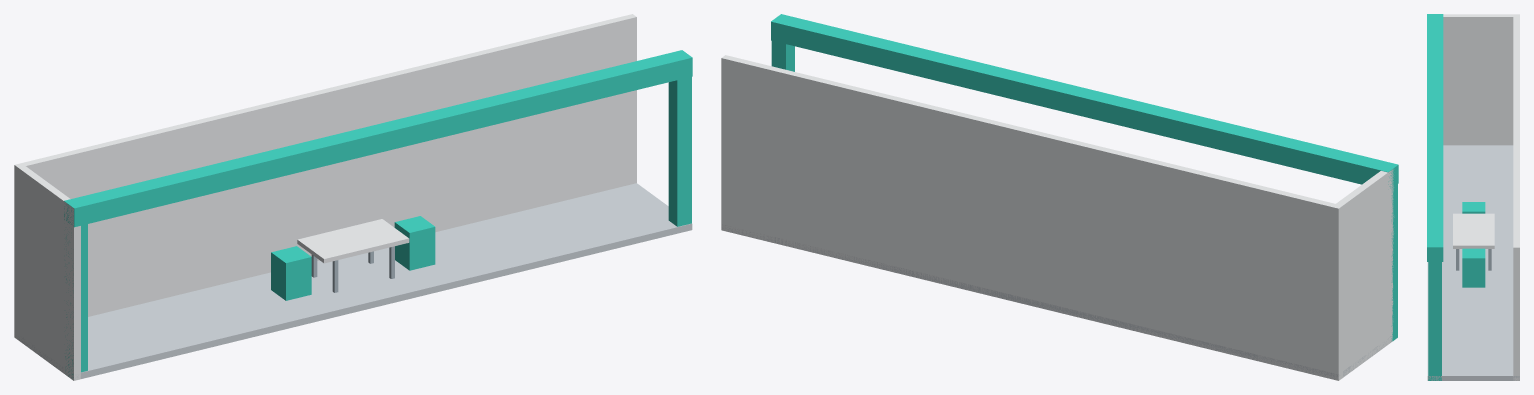
3 views of the same model, side by side, from view 1: azimuth 30°, elevation 25°; view 2: azimuth 150°, elevation 25°; view 3: azimuth 270°, elevation 25° (orthographic). The views are drawn at different scales.
Visible parts, largest first — view 1: Exhibition Booth Concept; view 2: Exhibition Booth Concept; view 3: Exhibition Booth Concept.
Boxes of the visible parts, left/top/right/bottom form: Exhibition Booth Concept: left=14, top=14, right=692, bottom=380; Exhibition Booth Concept: left=721, top=14, right=1398, bottom=380; Exhibition Booth Concept: left=1427, top=14, right=1519, bottom=380.
Size of the model in its own units: 12 by 3.2 by 2.01.
